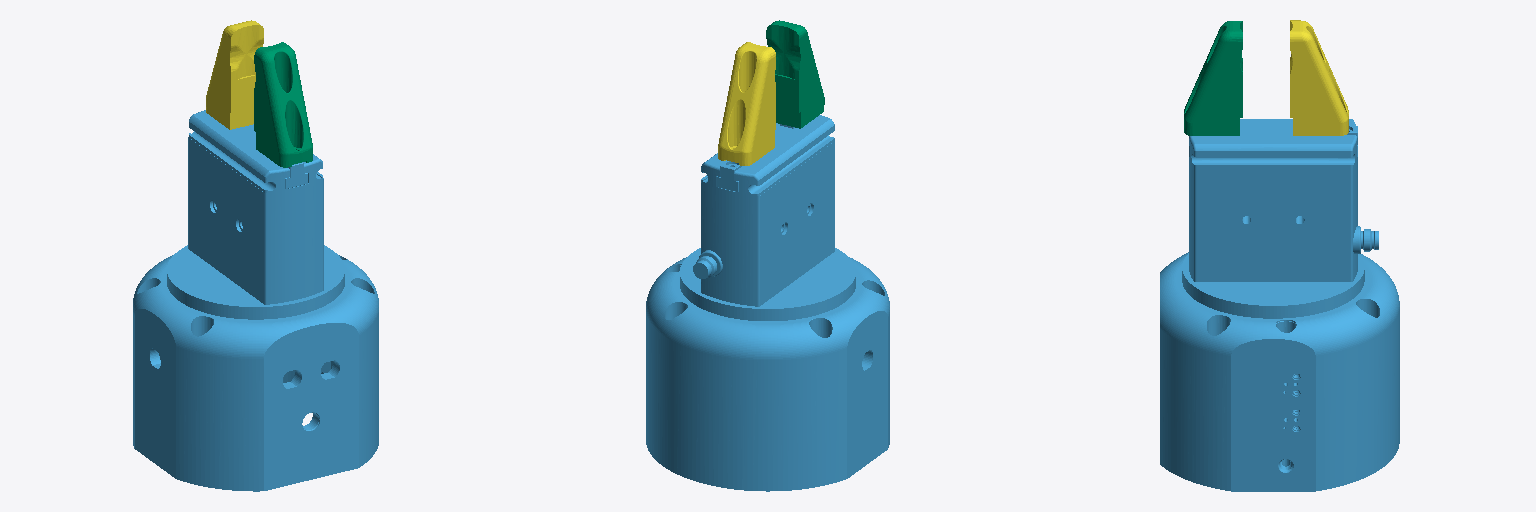
robot.urdf — gripper:
<?xml version="1.0"?>
<robot name="gripper">
	
	
	<link name="world"/>
	
    <link name="hand">
        <inertial>
			<origin rpy="0.000000 0.000000 0.000000" xyz="0.000000 0.000000 0.12200"/>
			<mass value="0.184000"/>
			<!--Check with values in tech sheet values in kgcm^2???-->
			<inertia ixx="0.550000" ixy="-0.000002" ixz="-0.000003" iyy="0.930000" iyz="0.000005" izz="0.550000"/>
		</inertial>
        <visual>
            <origin rpy="0.000000 -0.000000 0.000000" xyz="0.000000 0.000000 0.122000"/>
			<geometry>
                <mesh filename="package://modrob_simulation/stl_files/E_Schimaneck.STL"/>
            </geometry>
        </visual>
        <collision>
			<origin rpy="0.000000 -0.000000 0.000000" xyz="0.000000 0.000000 0.122000"/>
			<geometry>
				<mesh filename="package://modrob_simulation/stl_files/E_Schimaneck.STL"/>
			</geometry>
		</collision>
	</link>

	<gazebo reference="hand">
		<material>Gazebo/DarkGrey</material>
	</gazebo>

	<gazebo reference="hand">
		<kp>0.000000</kp>
		<kd>0.000000</kd>
		<mu1>0.000000</mu1>
		<mu2>0.000000</mu2>
	</gazebo>
	
	
	<link name="finger1">
		<inertial>
			<origin rpy="0.00000 0.000000 0.0" xyz="0.0000 -0.000 0.001500"/>
			<mass value="0.006944"/>
			<inertia ixx="0.000004629" ixy="0.000000486" ixz="0.000000972" iyy="0.000004157" iyz="0.000001389" izz="0.00000138"/>
		</inertial>
		<visual>
			<origin rpy="0.000000 0.000000 0.0" xyz="0.0000 -0.000 0.001500"/>
			<geometry>
				<mesh filename="package://modrob_simulation/stl_files/finger_Birne_Gimatic_m.STL"/>
			</geometry>
		</visual>
		<collision>
			<origin rpy="0.000000 0.000000 0.0" xyz="0.000 -0.000 0.001510"/>
			<geometry>
				<mesh filename="package://modrob_simulation/stl_files/finger_Birne_Gimatic_m.STL"/>
			</geometry>
		</collision>
	</link>

	<gazebo reference="finger1">
		<material>Gazebo/Blue</material>
	</gazebo>

	<gazebo reference="finger1">
		<kp>110.000000</kp>
		<kd>10.000000</kd>
		<mu1>0.380000</mu1>
		<mu2>0.380000</mu2>
	</gazebo>

	<link name="finger2">
		<inertial>
			<origin rpy="0.00000 0.000000 0.0" xyz="0.000 0.00 0.001500"/>
			<mass value="0.006944"/> <!--m=0.5*4*2*1.4cm^3 * 1.24 g/cm^3-->
			<inertia ixx="0.000004629" ixy="0.000000486" ixz="0.000000972" iyy="0.000004157" iyz="0.000001389" izz="0.00000138"/>
		</inertial>
		<visual>
			<origin rpy="0.000000 0.000000 0.0" xyz="0.0000 0.000 0.001510"/>
			<geometry>
				<mesh filename="package://modrob_simulation/stl_files/finger_Birne_Gimatic_m.STL"/>
			</geometry>
		</visual>
		<collision>
			<origin rpy="0.000000 0.000000 0.0" xyz="0.000 0.000 0.001500"/>
			<geometry>
				<mesh filename="package://modrob_simulation/stl_files/finger_Birne_Gimatic_m.STL"/>
			</geometry>
		</collision>
	</link>

	<gazebo reference="finger2">
		<material>Gazebo/Blue</material>
	</gazebo>

	<gazebo reference="finger2">
		<kp>110.00000</kp> <!--https://www.filamentworld.de/wp-content/uploads/fact-sheets/Filamentworld_PLA_Datenblatt.pdf-->
		<kd>10.000000</kd>
		<mu1>0.380000</mu1> <!--https://github.com/superjamie/lazyweb/wiki/3D-Printing-Filament-Properties-->
		<mu2>0.380000</mu2>
	</gazebo>
	
	<joint name="fixed_world_link" type="fixed">
    	<parent link="world"/>
    	<child link="hand"/>
  	</joint>
	<!--
	<joint name="fixed_hand_finger" type="fixed">
    	<parent link="hand"/>
    	<child link="finger1"/>
  	</joint>
	-->
	
	<joint name="hand_to_finger1" type="prismatic">
		<origin rpy="0.000000 0.000000 +1.570796327" xyz="0.00700 -0.03200 0.12200"/>
		<parent link="hand"/>
		<child link="finger1"/>
		<dynamics damping="12.590000" friction="0.400000"/>
		<limit effort="1000.0" lower="-0.0" upper="0.0100" velocity="0.5"/> <!-- was 0.38 and 0.0 -->
  	</joint>

  	<joint name="hand_to_finger2" type="prismatic">
		<origin rpy="0.000000 0.000000 -1.570796327" xyz="-0.00700 0.0620 0.12200"/>
		<parent link="hand"/>
		<child link="finger2"/>
		<dynamics damping="12.590000" friction="0.400000"/>
		<limit effort="1000.0" lower="0.03" upper="0.04" velocity="0.5"/>
  	</joint>
	
</robot>

--- Render facts (derived) ---
3 views of the same robot in one strip: view 1: azimuth 30°, elevation 25°; view 2: azimuth 150°, elevation 25°; view 3: azimuth 270°, elevation 25° (orthographic).
Robot: gripper — 4 links, 3 joints (2 prismatic, 1 fixed); root link world; default pose: all joints at 0 but 1 set to mid-range because 0 is outside their limits (hand_to_finger2 = 0.035).
Visible links, largest first — view 1: hand, finger1, finger2; view 2: hand, finger2, finger1; view 3: hand, finger1, finger2.
Link boxes in pixels (bbox=[...]): hand: bbox=[133, 110, 378, 491]; finger1: bbox=[254, 42, 312, 167]; finger2: bbox=[206, 20, 263, 129]; hand: bbox=[646, 115, 889, 491]; finger2: bbox=[718, 42, 775, 165]; finger1: bbox=[766, 20, 824, 128]; hand: bbox=[1160, 119, 1399, 491]; finger1: bbox=[1184, 21, 1242, 135]; finger2: bbox=[1290, 20, 1348, 135].
Size in the robot's own frame: 0.0849 by 0.0853 by 0.1632 metres.
Meshes: 2 distinct files referenced, 3 mesh visuals loaded (2 binary STL).
